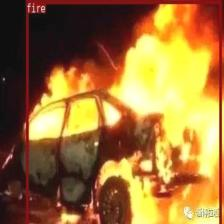fire: (25, 0, 221, 224)
